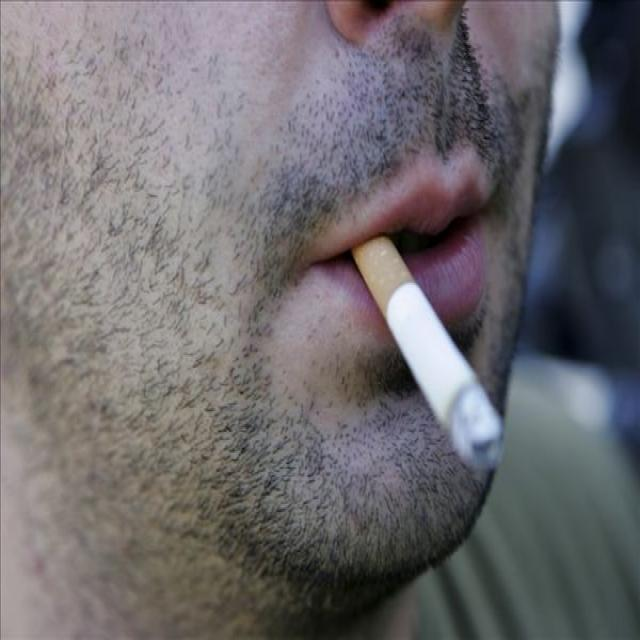smoking: (353, 232, 505, 476)
